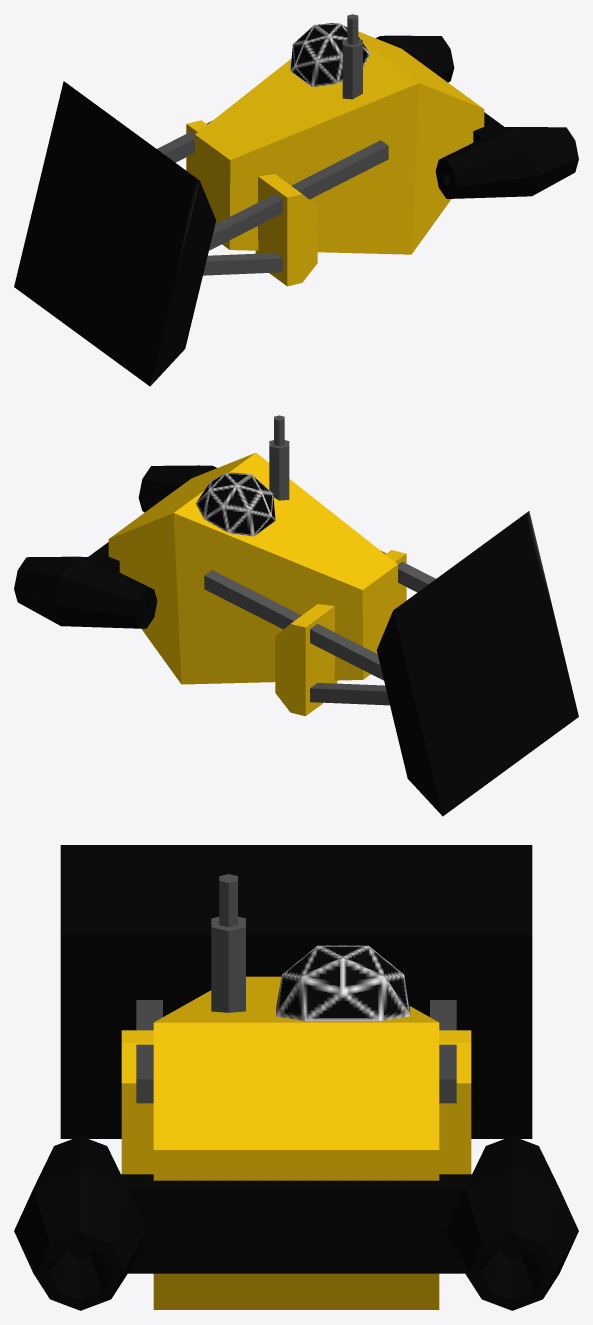
Rendered from bulldozer.fbx.
The picture shows the model from 3 angles, top to bottom: view 1: azimuth 30°, elevation 25°; view 2: azimuth 150°, elevation 25°; view 3: azimuth 270°, elevation 25°; orthographic projection. The views are drawn at different scales.
Parts seen in each view (by area): view 1: pCube9; view 2: pCube9; view 3: pCube9.
Boxes of the visible parts, <box> form: pCube9: <box>14,14,578,386</box>; pCube9: <box>14,415,578,816</box>; pCube9: <box>14,845,578,1310</box>.
Bounding box in the file's own units: 1.47 × 0.9117 × 0.9871.
